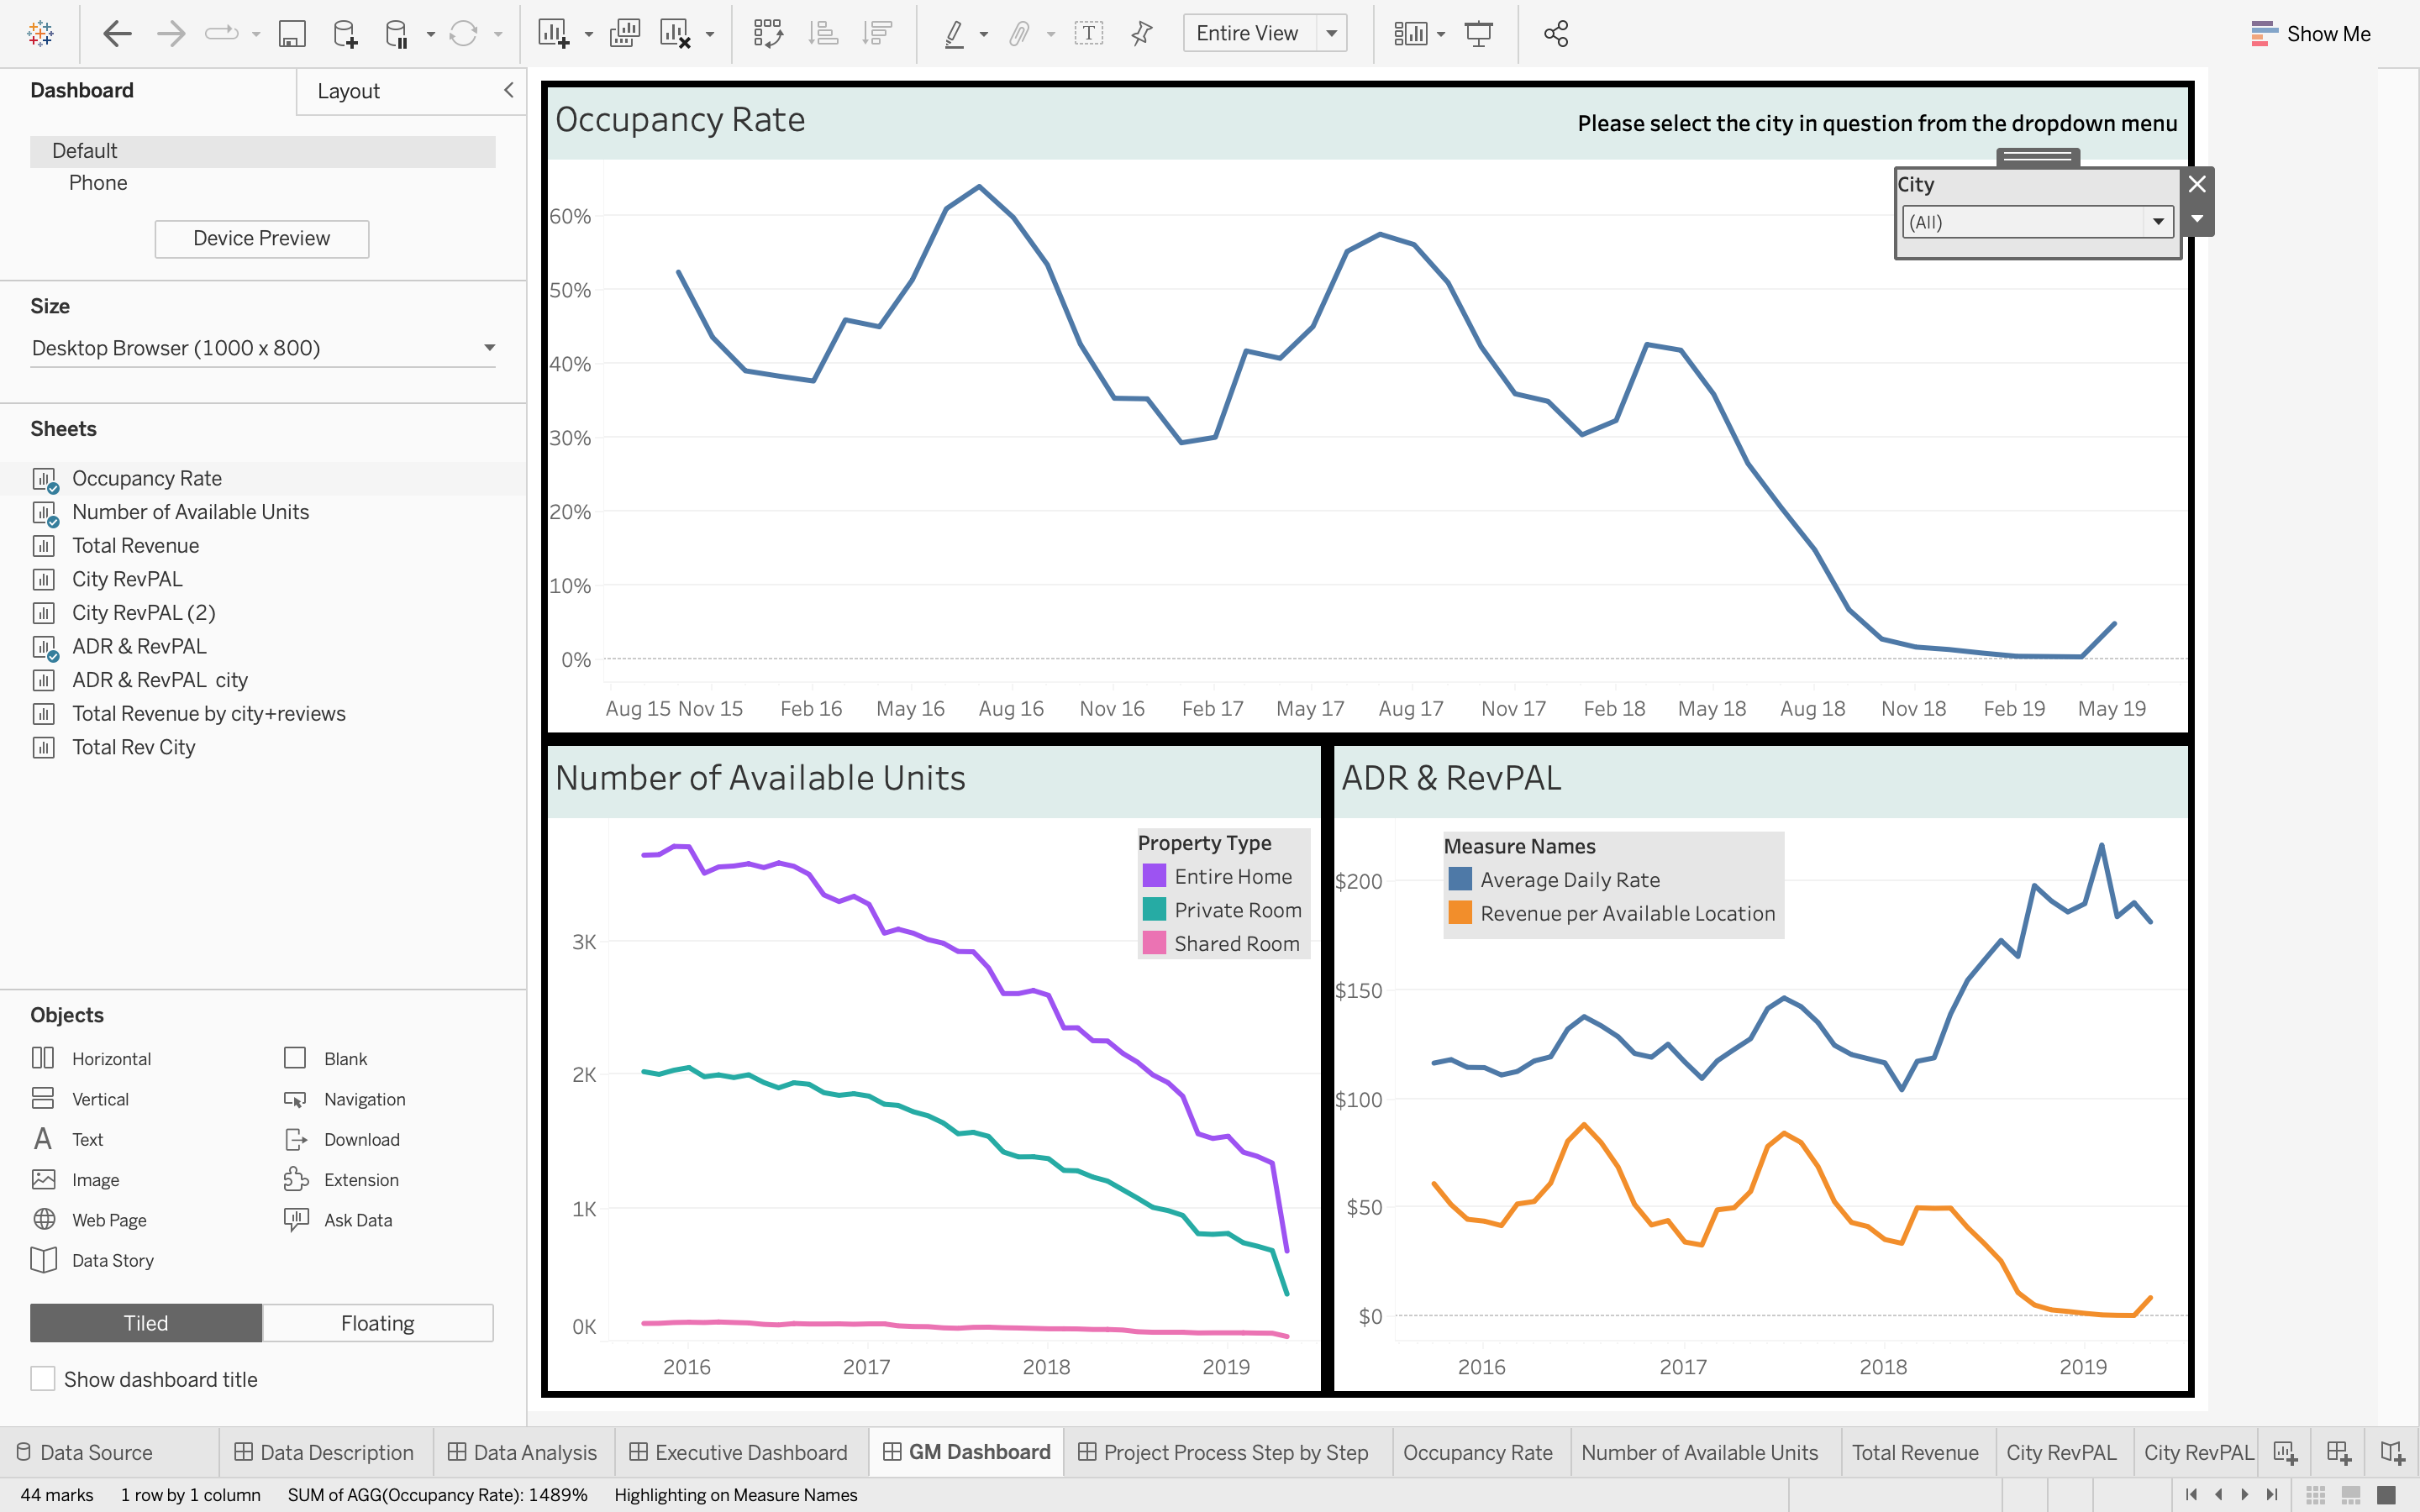

What the dashboard file says about the page in this screenshot:
{"tool":"tableau","page":{"name":"GM Dashboard","canvas":[1000,800],"ordinal":3},"visuals":[{"type":"worksheet","title":"Occupancy Rate","mark":"Automatic","rows":["Calculation_4419931223732649986"],"cols":["booking_month"],"box":[8,8,984,392]},{"type":"text","box":[605,15,397,36]},{"type":"filter","title":"Occupancy Rate","param":"[federated.05sq8ha0v0raol1953nao15doiwz].[none:city:nk]","box":[815,61,168,52]},{"type":"worksheet","title":"Number of Available Units","mark":"Automatic","rows":["Calculation_4419931223733288964"],"cols":["booking_month"],"box":[8,400,468,392]},{"type":"worksheet","title":"ADR & RevPAL","mark":"Line","cols":["booking_month"],"box":[476,400,516,392]},{"type":"legend","title":"Number of Available Units","param":"[federated.05sq8ha0v0raol1953nao15doiwz].[none:Calculation_4419931223989948421:n","box":[363,453,103,78]},{"type":"legend","title":"ADR & RevPAL","param":"[federated.05sq8ha0v0raol1953nao15doiwz].[:Measure Names]","box":[545,455,203,64]}]}

Visuals, with their boxes on the page's 1000x800 design canvas (x1, y1, x2, y2). These are canvas units, not pixel positions in the 2420x1512 screenshot, which may show the page scaled, cropped or inside an application window:
"Occupancy Rate" worksheet: 8/8/992/400
text: 605/15/1002/51
"Occupancy Rate" filter: 815/61/983/113
"Number of Available Units" worksheet: 8/400/476/792
"ADR & RevPAL" worksheet (Line marks): 476/400/992/792
"Number of Available Units" legend: 363/453/466/531
"ADR & RevPAL" legend: 545/455/748/519
